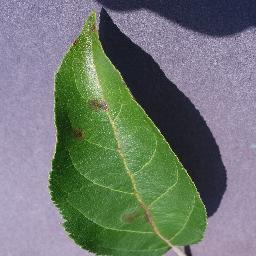apple healthy: (46, 9, 209, 255)
